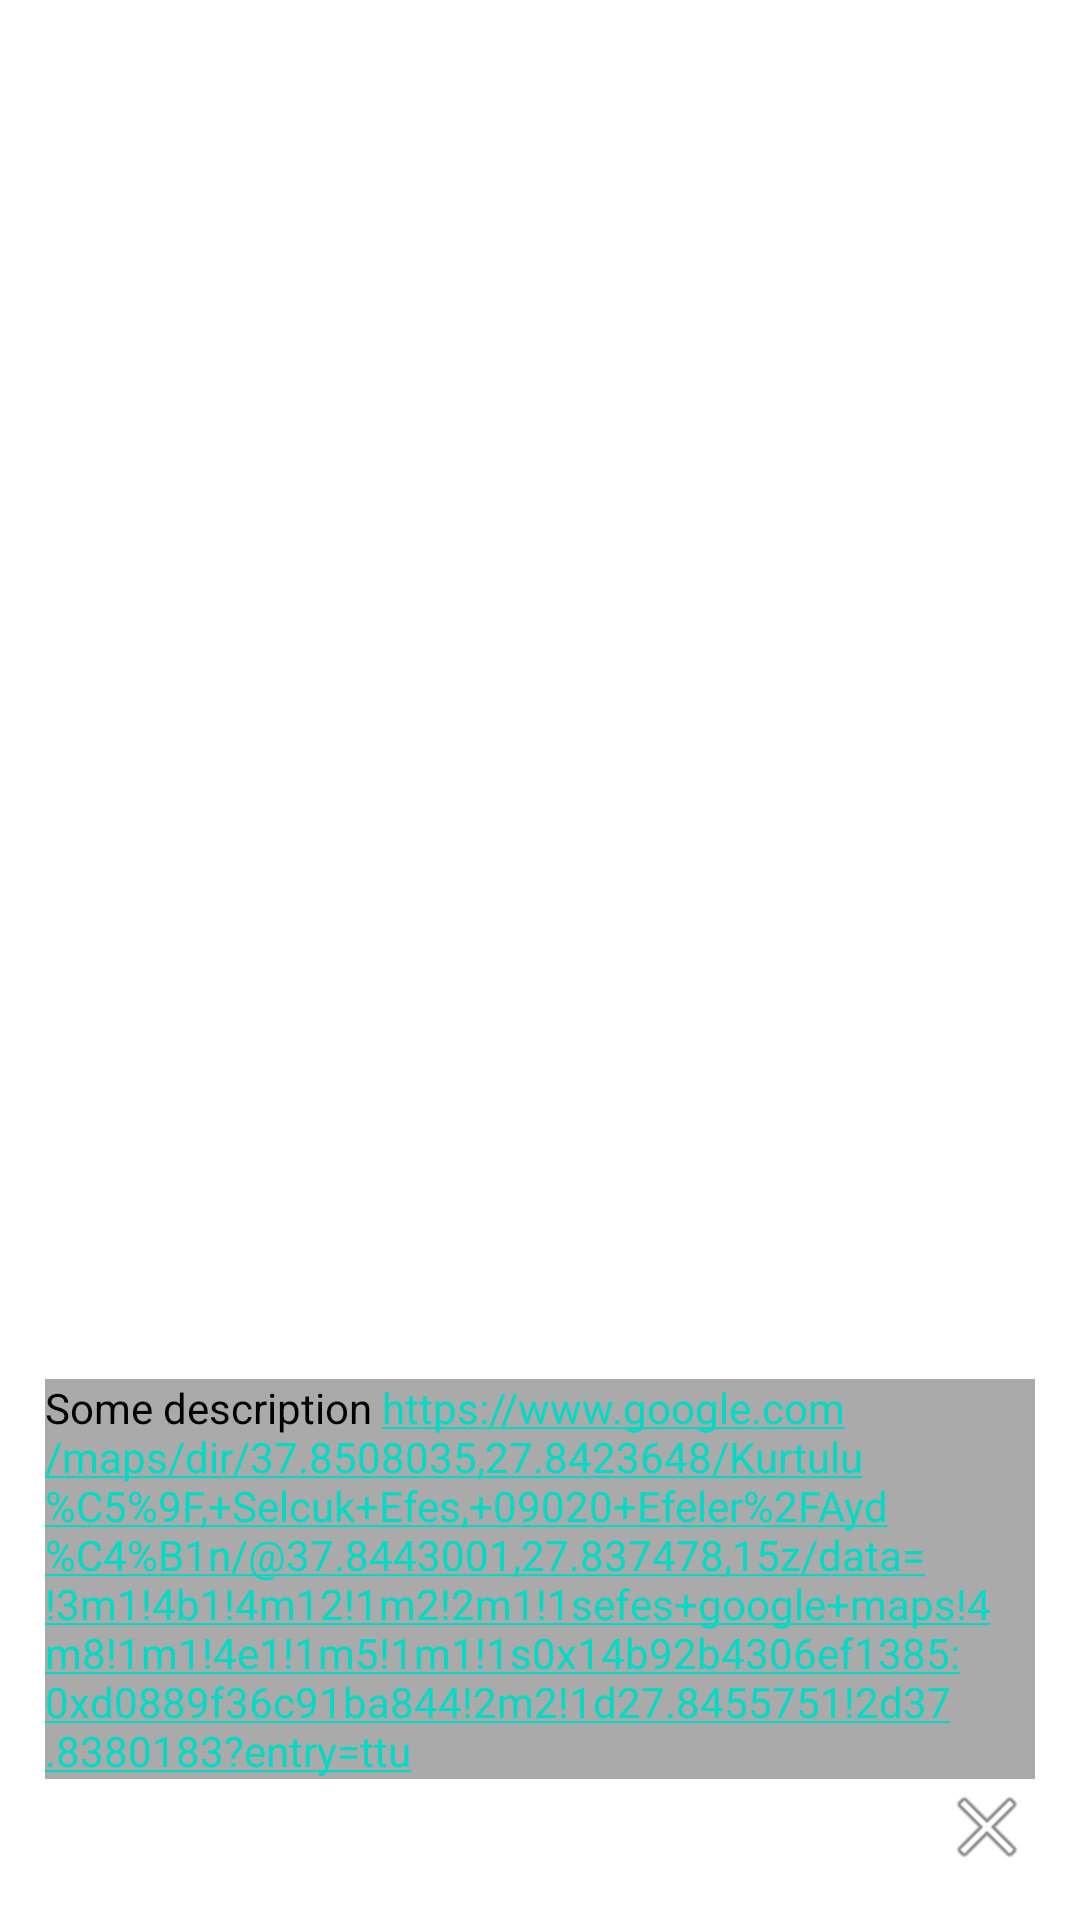

Icons on this 1080*1920 Android screen, each with the point to tap as (x=x, y=y):
close image: (x=987, y=1827)
